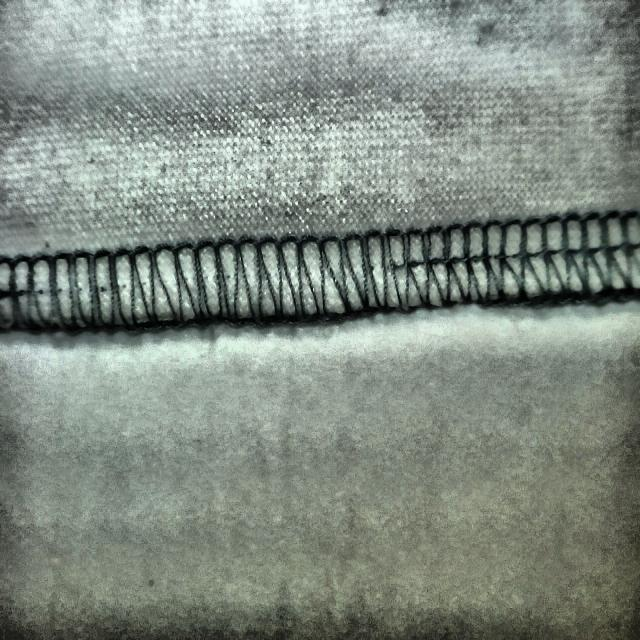gray stitch: (235, 209, 640, 323)
